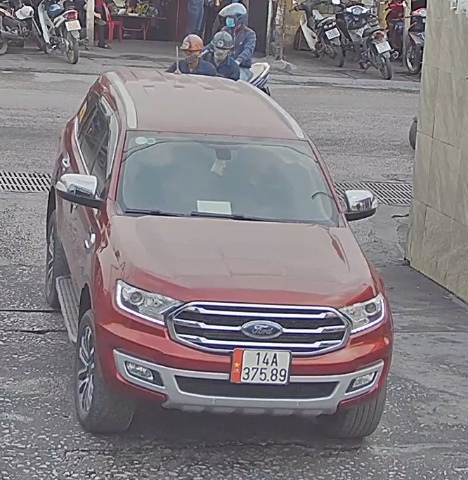vehicle plate: (228, 339, 290, 388)
